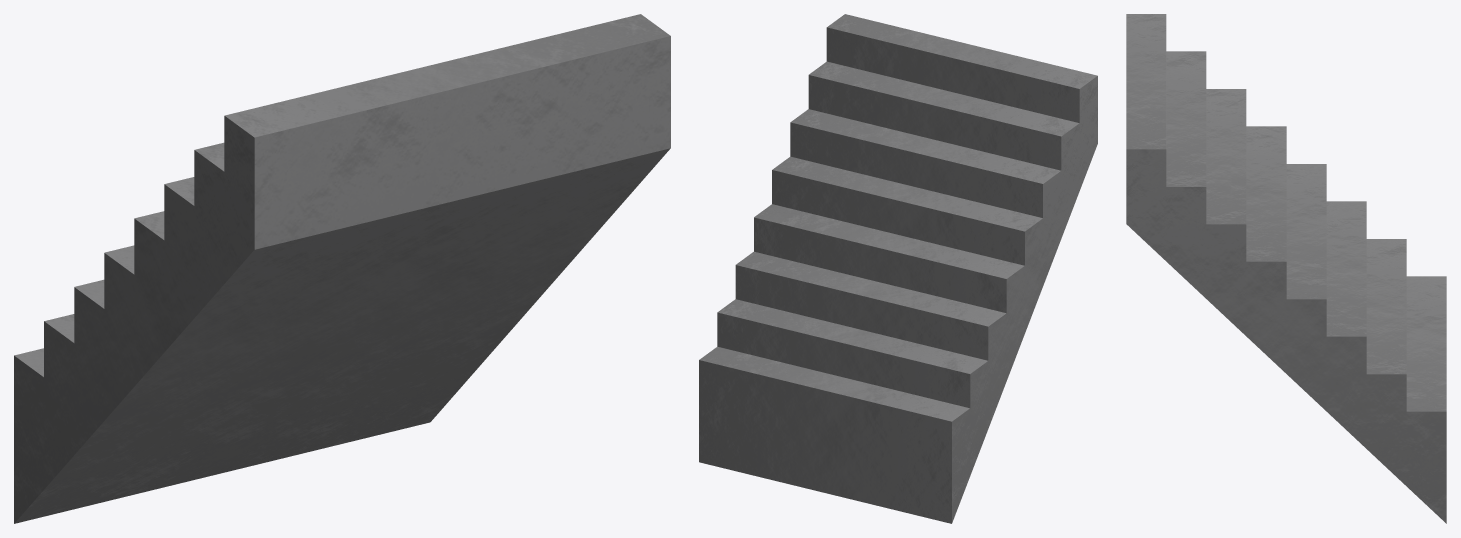
Rendered from stairs.fbx.
3 renders of one model, left to right at view 1: azimuth 30°, elevation 25°; view 2: azimuth 150°, elevation 25°; view 3: azimuth 270°, elevation 25°, orthographic. The views are drawn at different scales.
Parts seen in each view (by area): view 1: pCube4; view 2: pCube4; view 3: pCube4.
Part boxes in pixels (x1,y1,x2,y2): pCube4: (14, 14, 670, 523); pCube4: (699, 14, 1097, 523); pCube4: (1126, 14, 1446, 523).
Size of the model in its own units: 100 by 129 by 100.
1 material, 1 textured.
